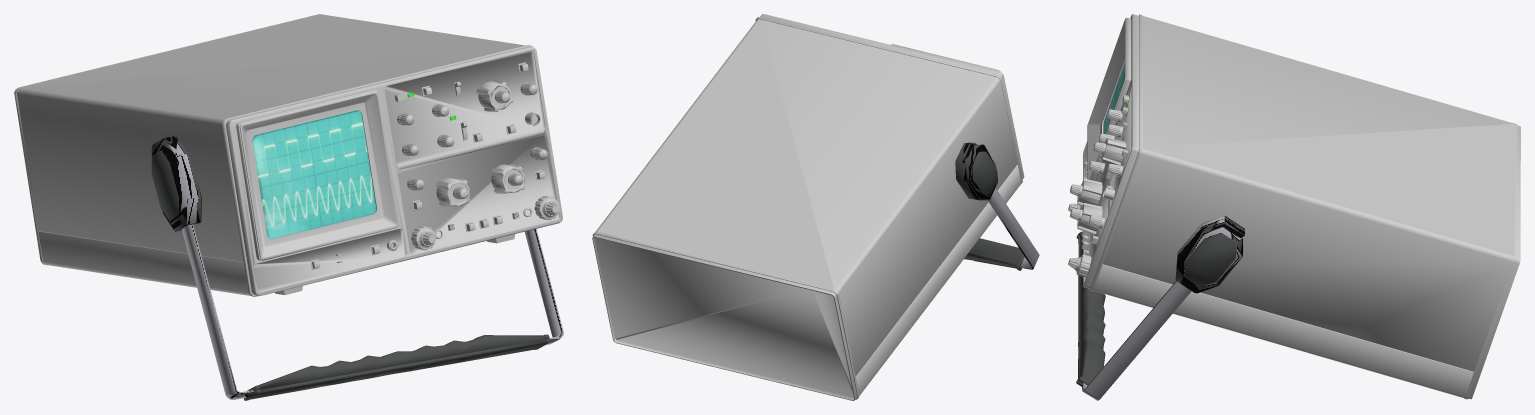
Rendered from Machine.fbx.
3 views of the same model, side by side, from view 1: azimuth 30°, elevation 25°; view 2: azimuth 150°, elevation 25°; view 3: azimuth 270°, elevation 25° (orthographic). The views are drawn at different scales.
Visible parts, largest first — view 1: Body, Hande, Screens; view 2: Body, Hande; view 3: Body, Hande.
Part boxes in pixels (left/top/right/bottom): Body: left=14, top=14, right=562, bottom=296; Hande: left=151, top=135, right=563, bottom=400; Screens: left=252, top=92, right=456, bottom=238; Body: left=592, top=14, right=1024, bottom=400; Hande: left=955, top=142, right=1039, bottom=270; Body: left=1068, top=14, right=1520, bottom=399; Hande: left=1076, top=215, right=1244, bottom=400.
Size of the model in its own units: 32.21 by 24.88 by 39.7.
